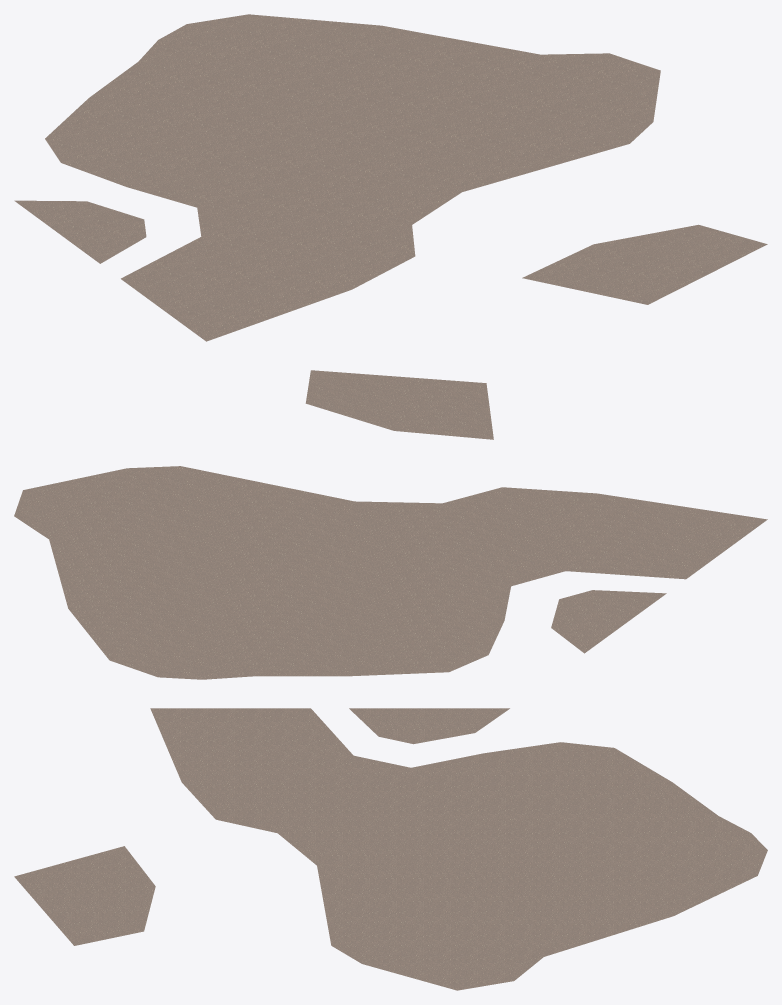
File: kd_stage_136599_21_2.glb
3 views of the same model, one above another, from view 1: azimuth 30°, elevation 25°; view 2: azimuth 150°, elevation 25°; view 3: azimuth 270°, elevation 25° (orthographic). The views are drawn at different scales.
Parts seen in each view (by area): view 1: kd_stage_136599_21_2; view 2: kd_stage_136599_21_2; view 3: kd_stage_136599_21_2.
Boxes of the visible parts, x1,y1,x2,y2 form: kd_stage_136599_21_2: (14,14,767,341); kd_stage_136599_21_2: (14,370,767,679); kd_stage_136599_21_2: (14,708,767,990).
Bounding box in the file's own units: 55.41 × 8.11e-06 × 62.53.
Materials: 1 (1 with a texture image).
